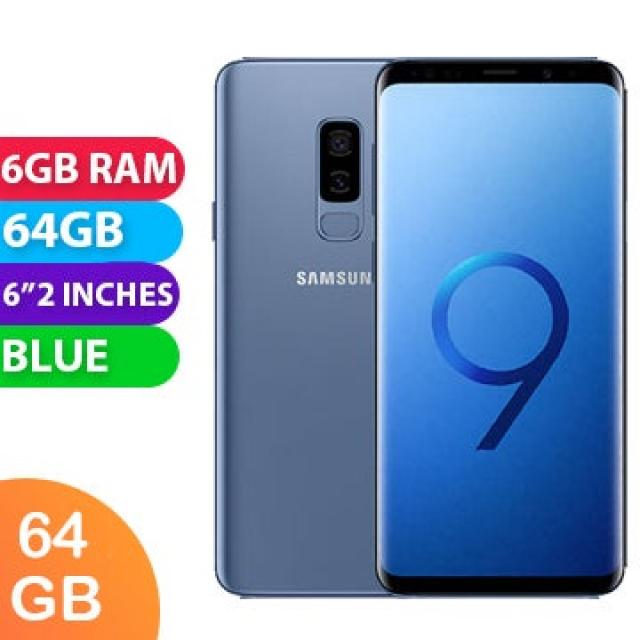mobile phone: (368, 55, 626, 599), (202, 46, 390, 607)
